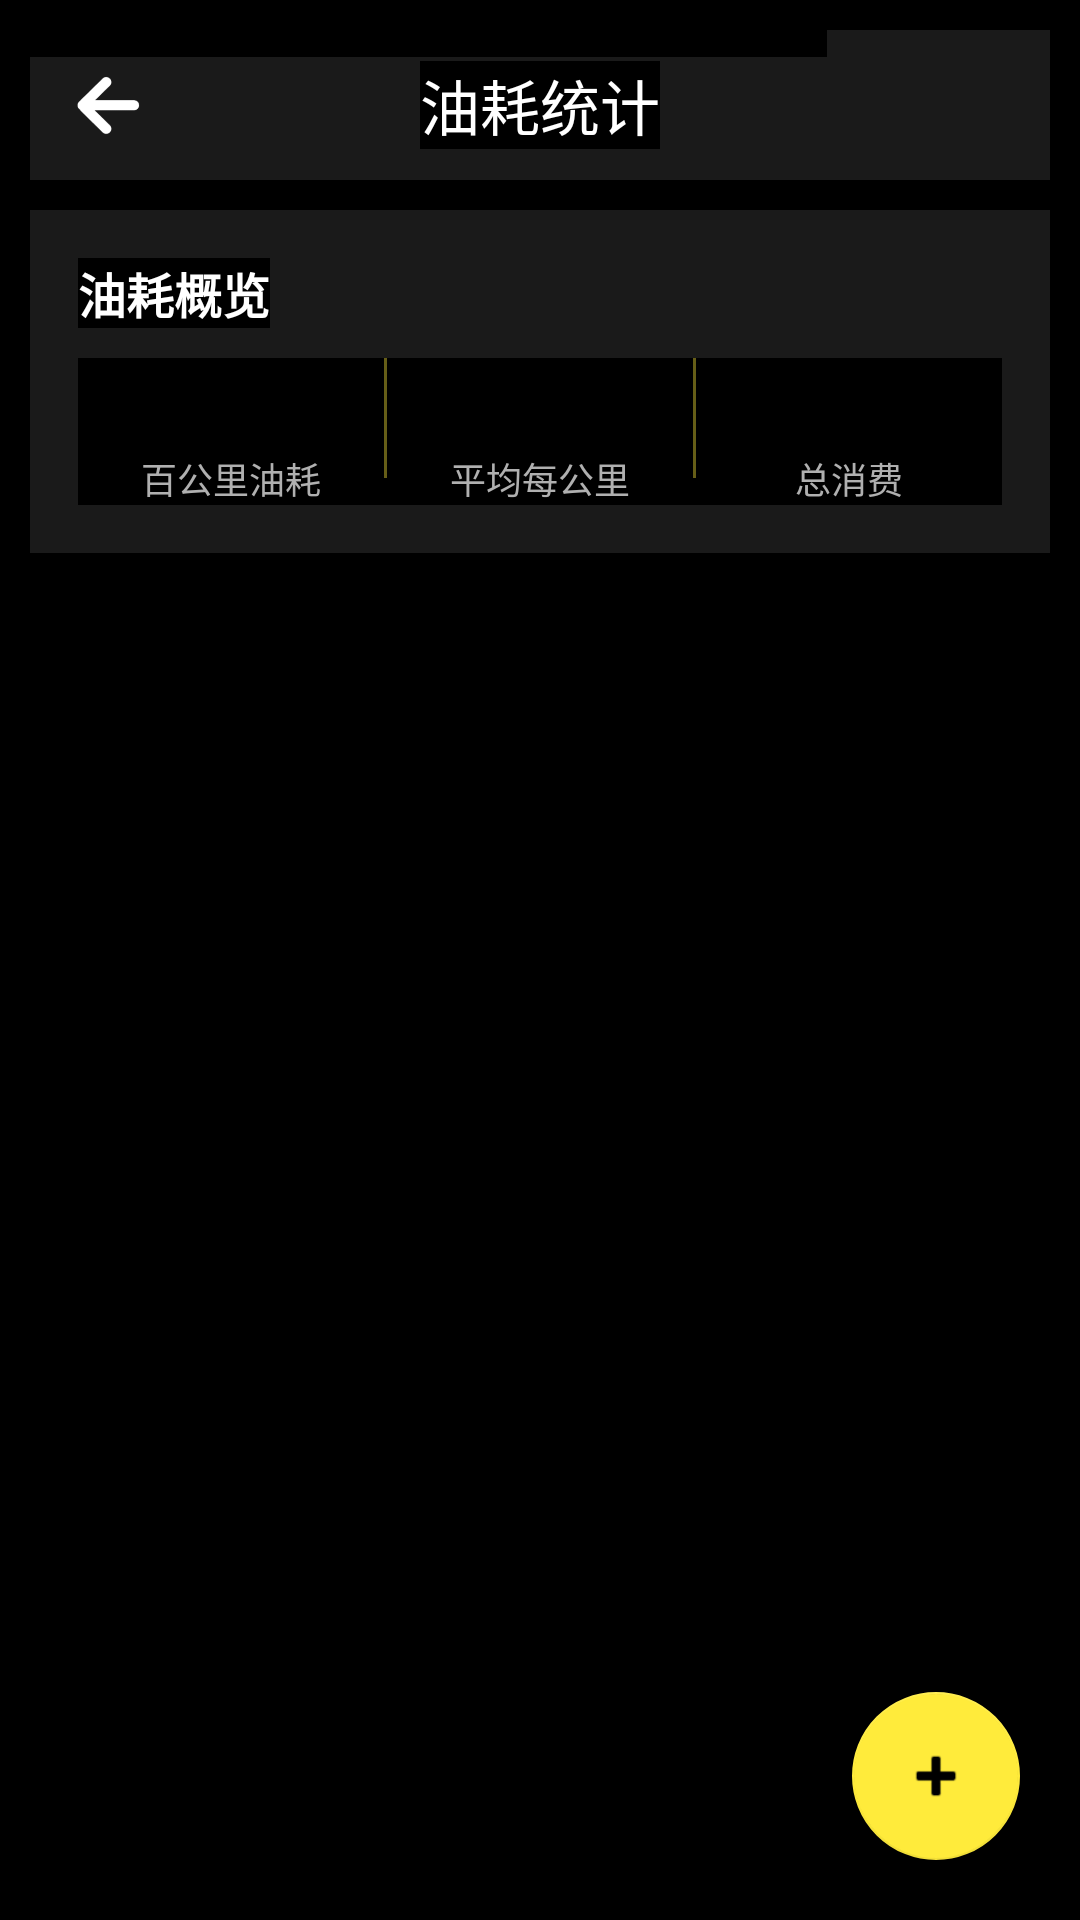

Icons on this 1080×1920 Android screen, each with the point to tap as [x,y]:
add: [936,1776]
